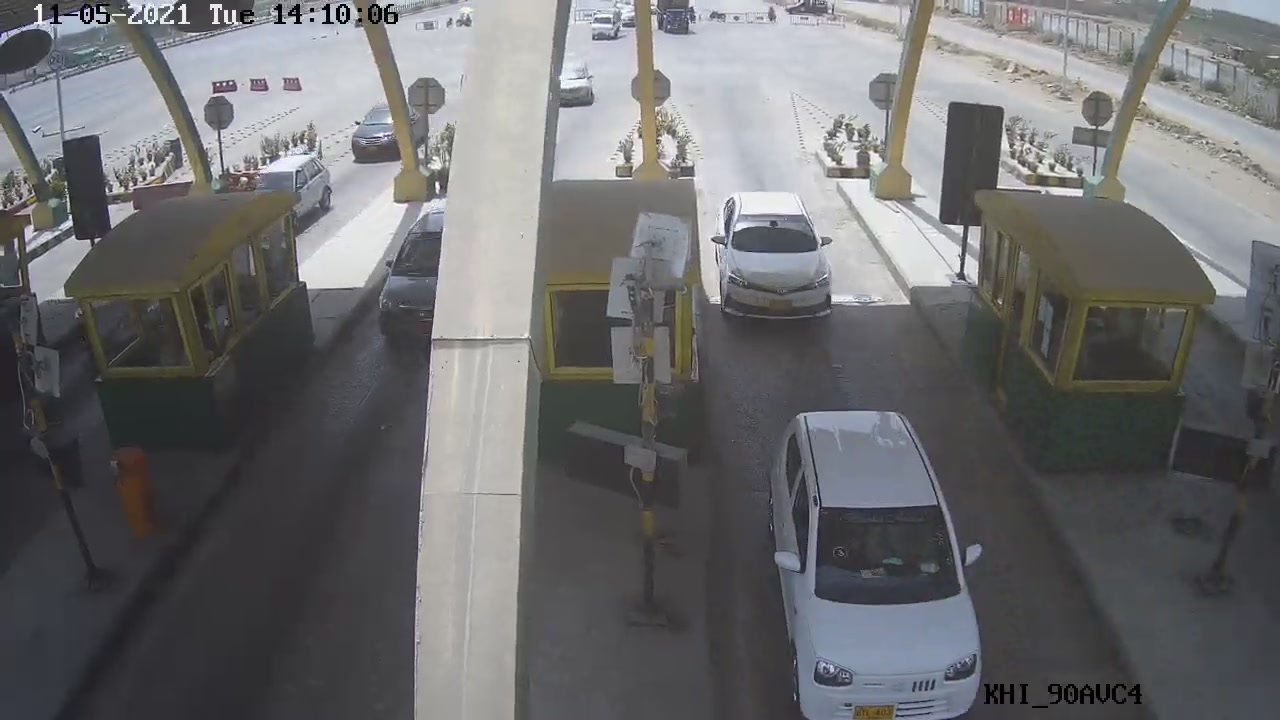F1: (704, 189, 845, 329)
